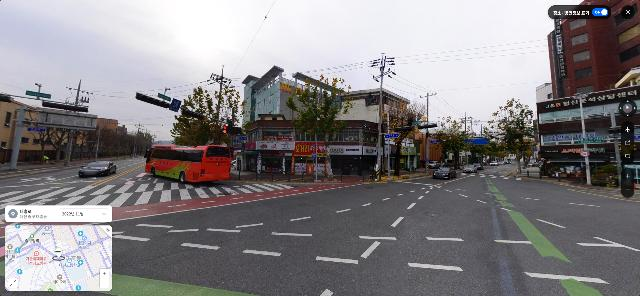ginkgo: (380, 92, 428, 177)
other: (284, 75, 358, 180), (171, 85, 244, 149), (480, 98, 541, 174), (432, 116, 460, 169), (450, 118, 476, 168), (519, 136, 538, 167), (458, 139, 479, 167), (472, 145, 495, 166)
